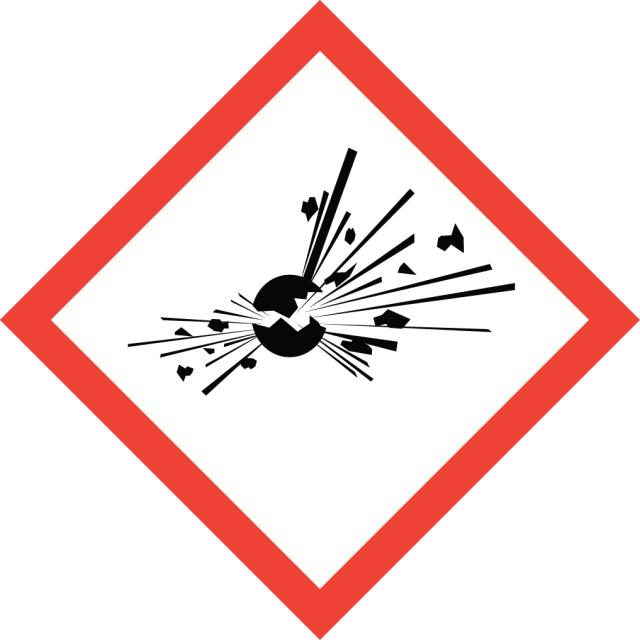explosive: (1, 0, 639, 637)
